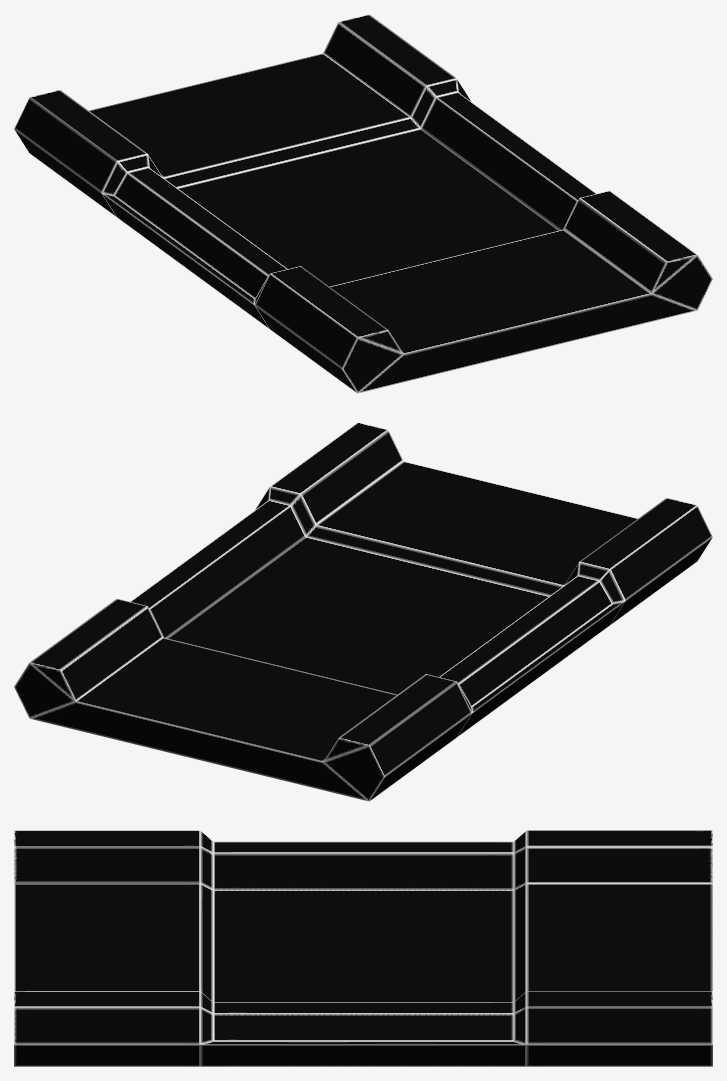
The picture shows the model from 3 angles, top to bottom: view 1: azimuth 30°, elevation 25°; view 2: azimuth 150°, elevation 25°; view 3: azimuth 270°, elevation 25°; orthographic projection. The views are drawn at different scales.
Visible parts, largest first — view 1: DD_02; view 2: DD_02; view 3: DD_02.
Part boxes in pixels (left/top/right/bottom): DD_02: left=14, top=14, right=712, bottom=393; DD_02: left=14, top=422, right=712, bottom=801; DD_02: left=14, top=830, right=712, bottom=1066.
Bounding box in the file's own units: 2400 × 346 × 3680.
1 material, 1 textured.
